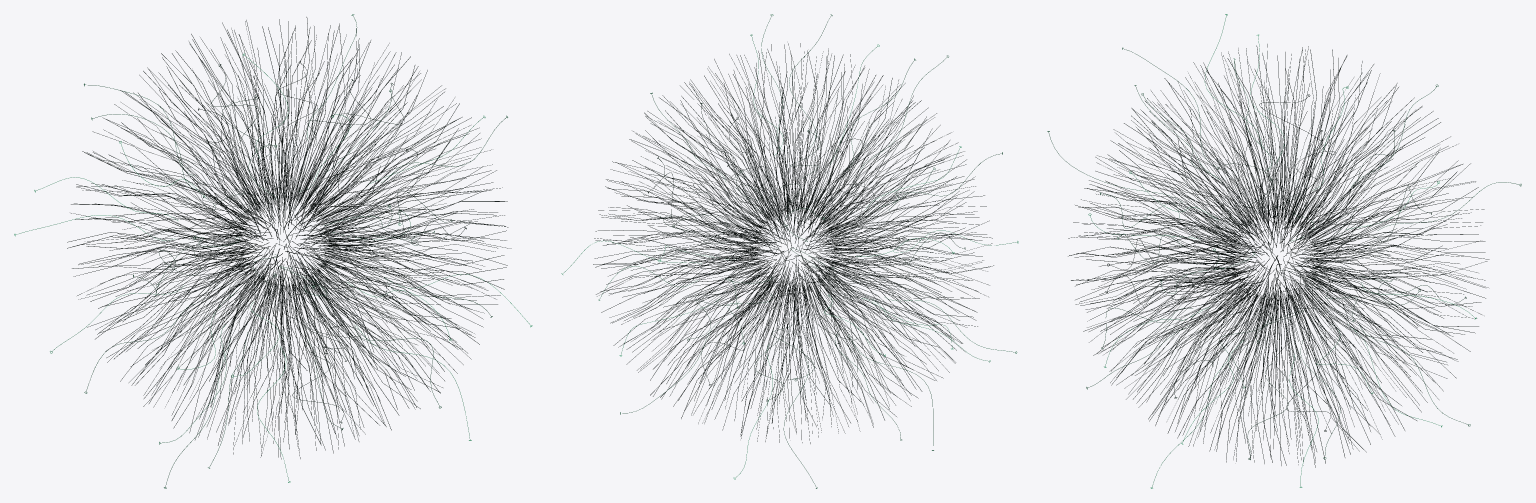
Rendered from senzai_kk02_d0_lod1.glb.
3 views of the same model, side by side, from view 1: azimuth 30°, elevation 25°; view 2: azimuth 150°, elevation 25°; view 3: azimuth 270°, elevation 25° (orthographic). The views are drawn at different scales.
Parts seen in each view (by area): view 1: CURVED_DORMANT_FIBERS, LIVING_ATTENTION; view 2: CURVED_DORMANT_FIBERS, LIVING_ATTENTION; view 3: CURVED_DORMANT_FIBERS, LIVING_ATTENTION.
Boxes of the visible parts, bbox=[...] form: CURVED_DORMANT_FIBERS: bbox=[67, 17, 511, 459]; LIVING_ATTENTION: bbox=[14, 14, 532, 488]; CURVED_DORMANT_FIBERS: bbox=[593, 43, 993, 443]; LIVING_ATTENTION: bbox=[561, 14, 1018, 488]; CURVED_DORMANT_FIBERS: bbox=[1068, 44, 1489, 467]; LIVING_ATTENTION: bbox=[1047, 14, 1521, 488].
Size of the model in its own units: 35.78 by 37.5 by 36.22.
